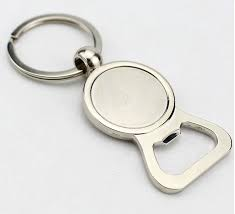bottleopener: (5, 13, 234, 196)
